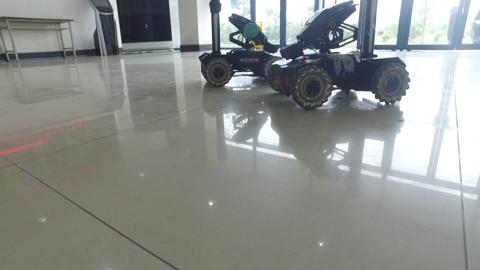chariot: (270, 1, 411, 115), (193, 1, 288, 89)
